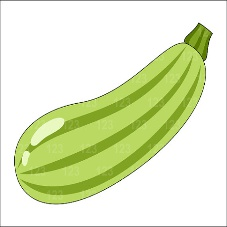cucumber: (14, 44, 208, 205)
